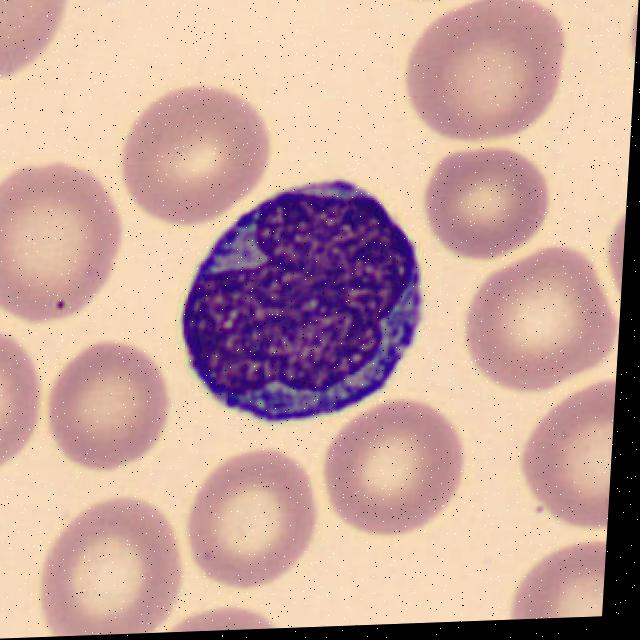monocyte: (166, 163, 440, 448)
rbc: (394, 0, 585, 139), (461, 237, 625, 395), (111, 79, 272, 235), (315, 397, 481, 536), (0, 159, 130, 336), (184, 441, 333, 593), (35, 491, 189, 637), (47, 331, 175, 478), (511, 375, 616, 537), (415, 145, 555, 262), (501, 532, 607, 620), (0, 307, 48, 481), (0, 0, 77, 88), (161, 588, 301, 633), (600, 199, 627, 315), (625, 0, 639, 79), (354, 0, 513, 2)
